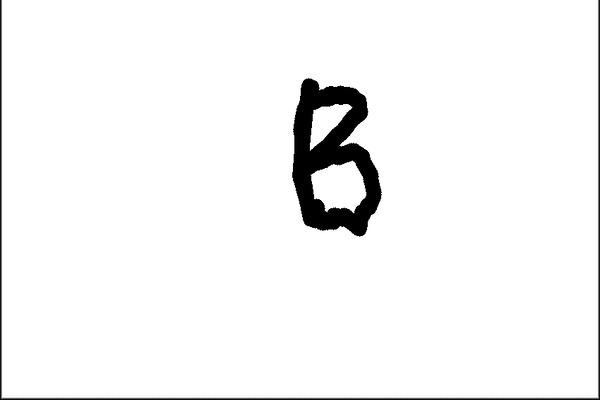B: (278, 71, 390, 239)
